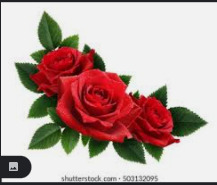RedRose: (48, 71, 136, 142), (24, 47, 98, 92), (127, 93, 185, 147)
